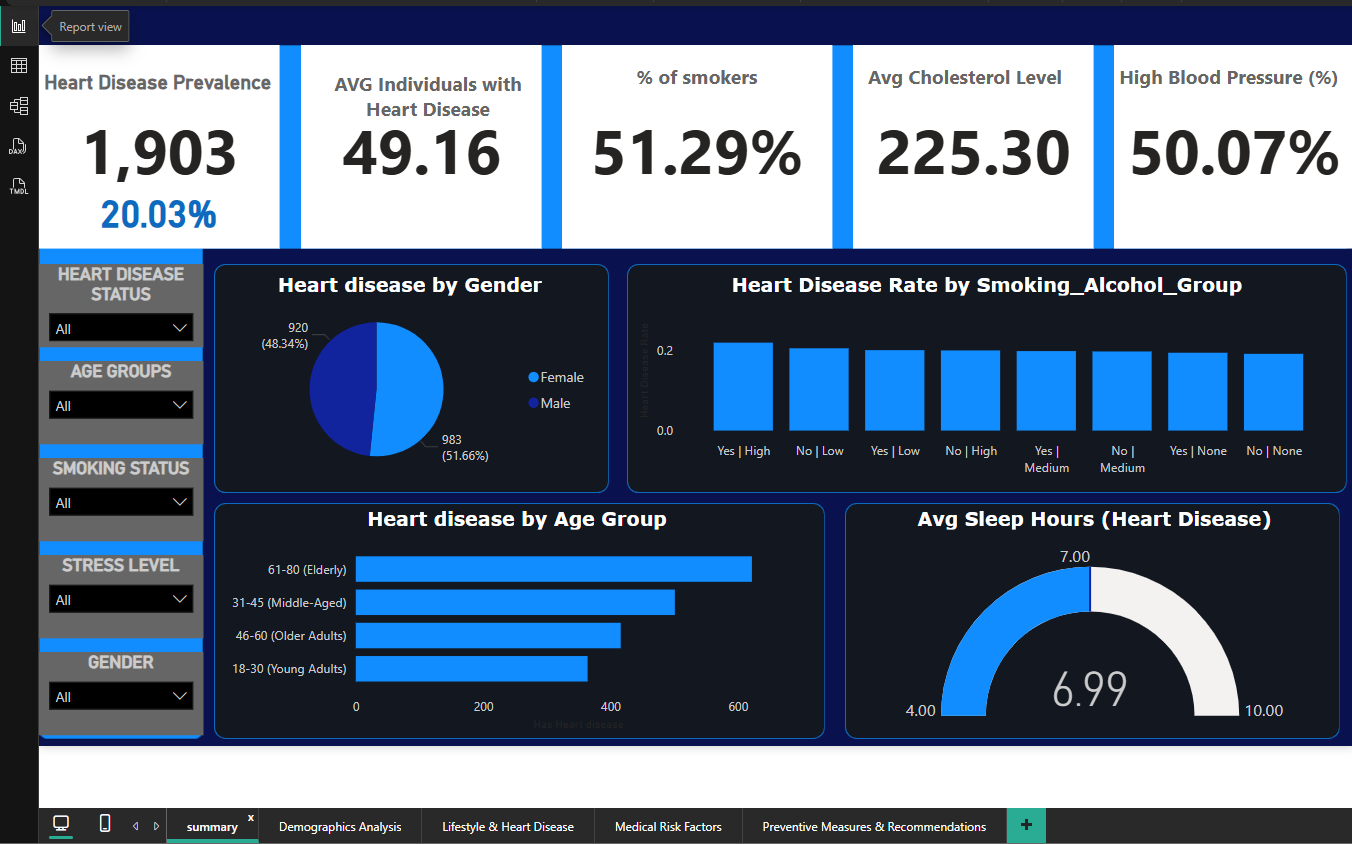

What the dashboard file says about the page in this screenshot:
{"tool":"powerbi","page":{"name":"summary","canvas":[1280,720],"ordinal":0},"visuals":[{"type":"shape","box":[0,37.9,1280,198.4],"z":0},{"type":"shape","box":[0,37.9,159.5,675],"z":1000},{"type":"card","fields":{"Values":["Measures (2).Has Heart disease"]},"box":[0,37.9,234.4,198.4],"z":2000},{"type":"textbox","box":[0,57.4,233.4,72.9],"z":3000},{"type":"card","fields":{"Values":["Measures (2).Heart Disease Prevalence (%)"]},"box":[30.2,172.2,172.2,54.5],"z":4000},{"type":"card","fields":{"Values":["Measures (2).Average Age of Individuals with Heart Disease"]},"box":[254.3,37.9,234.4,198.4],"z":5000},{"type":"textbox","box":[261.6,57.4,233.4,86.6],"z":6000},{"type":"card","fields":{"Values":["Measures (2).% of smokers"]},"box":[508.7,37.9,262.6,198.4],"z":7000},{"type":"textbox","box":[523.3,50.6,233.4,73.9],"z":8000},{"type":"card","fields":{"Values":["Measures (2).Avg Cholesterole level"]},"box":[791.2,37.9,234.4,198.4],"z":9000},{"type":"textbox","box":[784,50.6,233.4,73.9],"z":10000},{"type":"card","fields":{"Values":["Measures (2).individuals with HBP (%)"]},"box":[1045.6,37.9,234.4,198.4],"z":11000},{"type":"shape","box":[170.2,250.9,384.2,222.7],"z":12000},{"type":"textbox","box":[1045.6,50.6,234.4,61.3],"z":13000},{"type":"pieChart","title":"Heart disease by Gender","fields":{"Category":["heart_disease.Gender"],"Y":["Measures (2).Has Heart disease"]},"box":[177,258.7,367.7,205.2],"z":14000},{"type":"shape","box":[170.2,483.4,594.3,229.5],"z":15000},{"type":"shape","box":[571.9,250.9,700.3,222.7],"z":16000},{"type":"barChart","title":"Heart disease by Age Group","fields":{"Category":["heart_disease.Age Group"],"Y":["Measures (2).Has Heart disease"]},"box":[173.1,486.3,583.6,222.7],"z":17000},{"type":"clusteredColumnChart","fields":{"Y":["Measures (2).Heart Disease Rate"],"Category":["heart_disease.Smoking_Alcohol_Group"]},"box":[578.7,258.7,686.7,205.2],"z":18000},{"type":"shape","box":[784,483.4,481.5,229.5],"z":19000},{"type":"gauge","fields":{"Y":["Measures (2).Avg Sleep Hours (Heart Disease)"]},"box":[797.6,486.3,458.1,214],"z":20000},{"type":"slicer","title":"HEART DISEASE STATUS","fields":{"Values":["heart_disease.Heart Disease Status"]},"box":[0,250.9,159.5,80.7],"z":21000},{"type":"slicer","title":"AGE GROUPS","fields":{"Values":["heart_disease.Age Group"]},"box":[0,345.3,159.5,80.7],"z":22000},{"type":"slicer","title":"SMOKING STATUS","fields":{"Values":["heart_disease.Smoking"]},"box":[0,439.6,159.5,80.7],"z":23000},{"type":"slicer","title":"STRESS LEVEL","fields":{"Values":["heart_disease.Stress Level"]},"box":[0,534,159.5,80.7],"z":24000},{"type":"slicer","title":"GENDER","fields":{"Values":["heart_disease.Gender"]},"box":[0,628.3,159.5,80.7],"z":25000}]}

Visuals, with their boxes on the page's 1280x720 design canvas (x1, y1, x2, y2). These are canvas units, not pixel positions in the 1352x844 screenshot, which may show the page scaled, cropped or inside an application window:
shape: box=[0, 38, 1280, 236]
shape: box=[0, 38, 160, 713]
card - Measures (2).Has Heart disease: box=[0, 38, 234, 236]
textbox: box=[0, 57, 233, 130]
card - Measures (2).Heart Disease Prevalence (%): box=[30, 172, 202, 227]
card - Measures (2).Average Age of Individuals with Heart Disease: box=[254, 38, 489, 236]
textbox: box=[262, 57, 495, 144]
card - Measures (2).% of smokers: box=[509, 38, 771, 236]
textbox: box=[523, 51, 757, 124]
card - Measures (2).Avg Cholesterole level: box=[791, 38, 1026, 236]
textbox: box=[784, 51, 1017, 124]
card - Measures (2).individuals with HBP (%): box=[1046, 38, 1280, 236]
shape: box=[170, 251, 554, 474]
textbox: box=[1046, 51, 1280, 112]
"Heart disease by Gender" pieChart: box=[177, 259, 545, 464]
shape: box=[170, 483, 764, 713]
shape: box=[572, 251, 1272, 474]
"Heart disease by Age Group" barChart: box=[173, 486, 757, 709]
clusteredColumnChart - Measures (2).Heart Disease Rate x heart_disease.Smoking_Alcohol_Group: box=[579, 259, 1265, 464]
shape: box=[784, 483, 1266, 713]
gauge - Measures (2).Avg Sleep Hours (Heart Disease): box=[798, 486, 1256, 700]
"HEART DISEASE STATUS" slicer: box=[0, 251, 160, 332]
"AGE GROUPS" slicer: box=[0, 345, 160, 426]
"SMOKING STATUS" slicer: box=[0, 440, 160, 520]
"STRESS LEVEL" slicer: box=[0, 534, 160, 615]
"GENDER" slicer: box=[0, 628, 160, 709]
